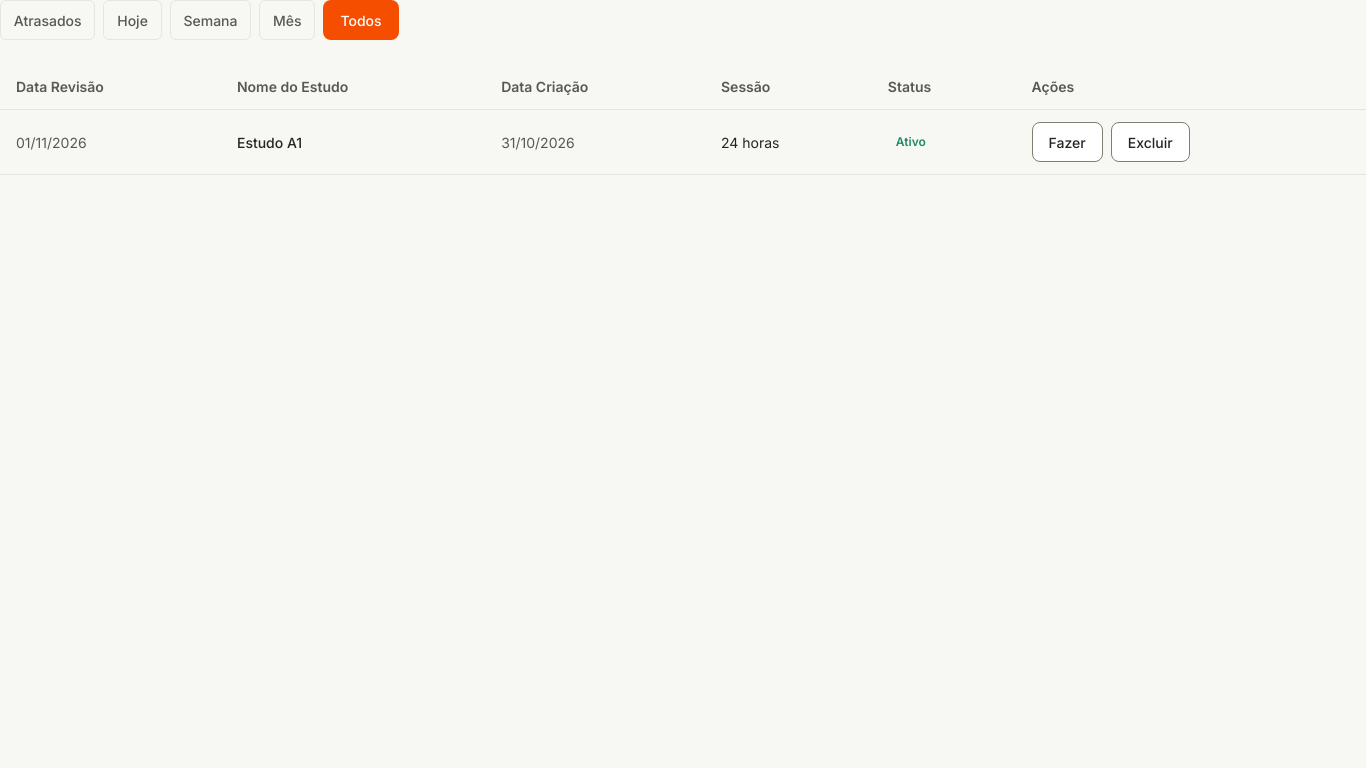
Test: ScheduleList › mostra a mensagem de erro, mantém a confirmação aberta e não atualiza a página
The width and height of the screenshot is (1366, 768).
Click the button with aria-label "Excluir agendamento de Estudo A1" at (1150, 142), box [1111,122,1190,162]
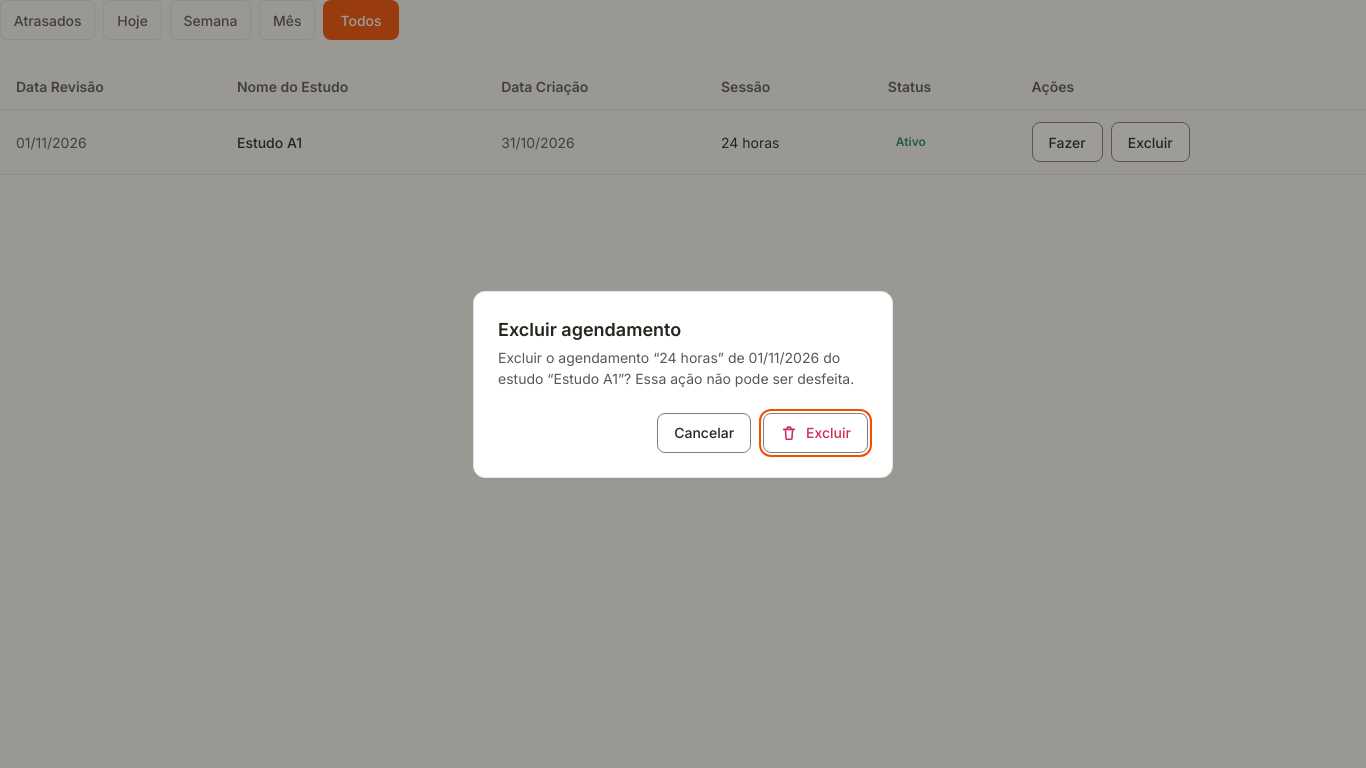
Click the button "Excluir" at (816, 432), box [763,412,868,452]
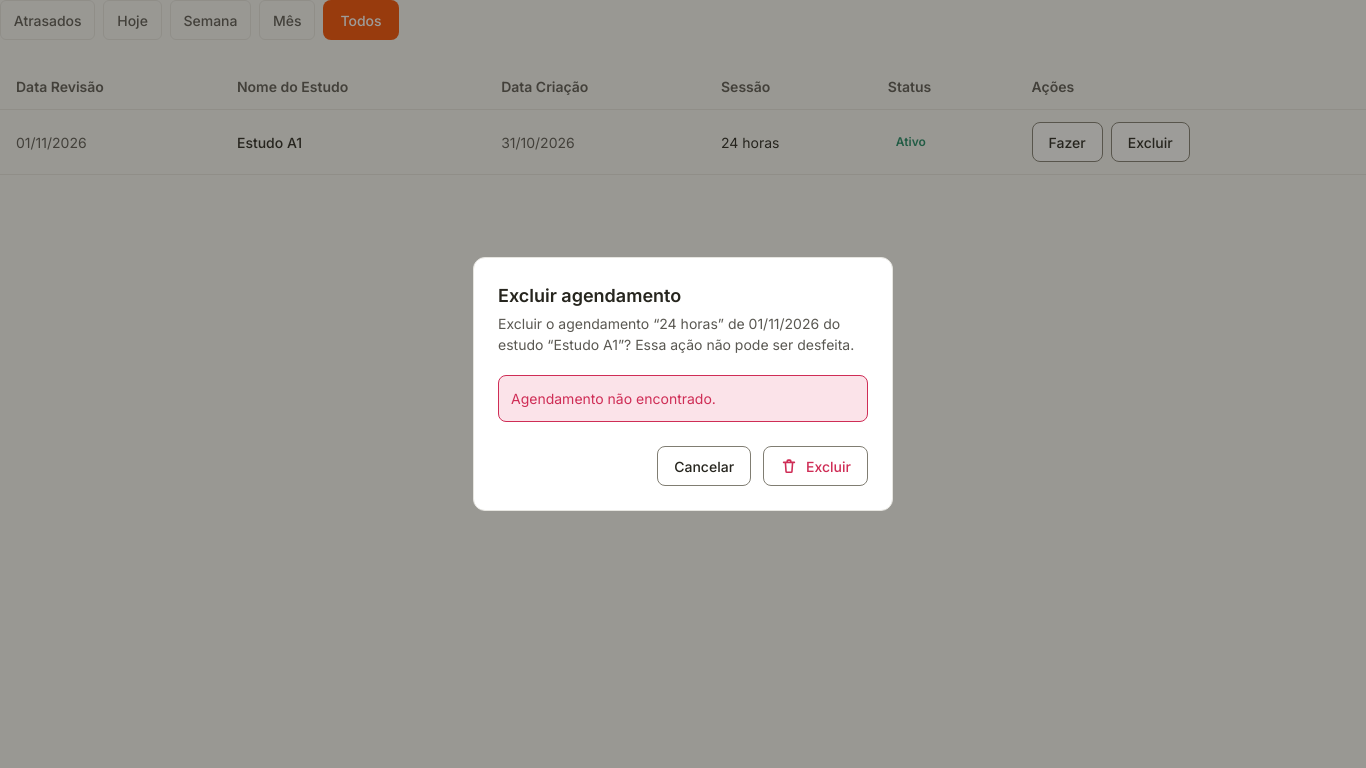
Now the dialog is shown, box [473,257,893,511]
Now the message reads "Agendamento não encontrado.", box [511,390,716,407]
